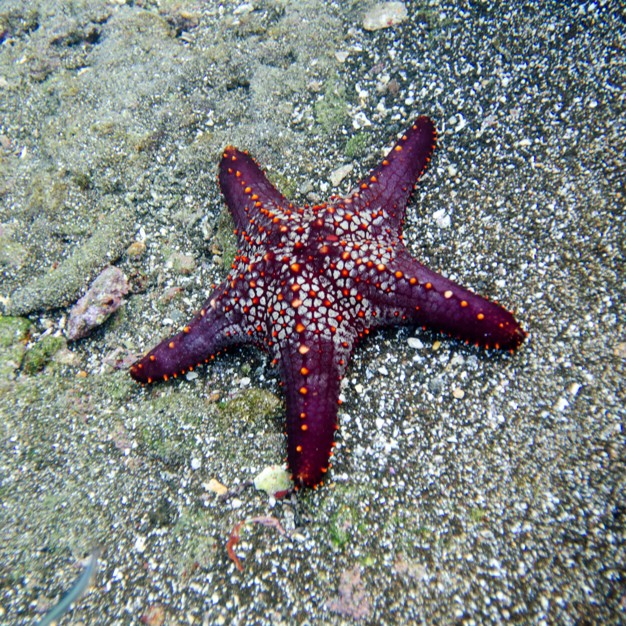starfish: (123, 107, 547, 463)
